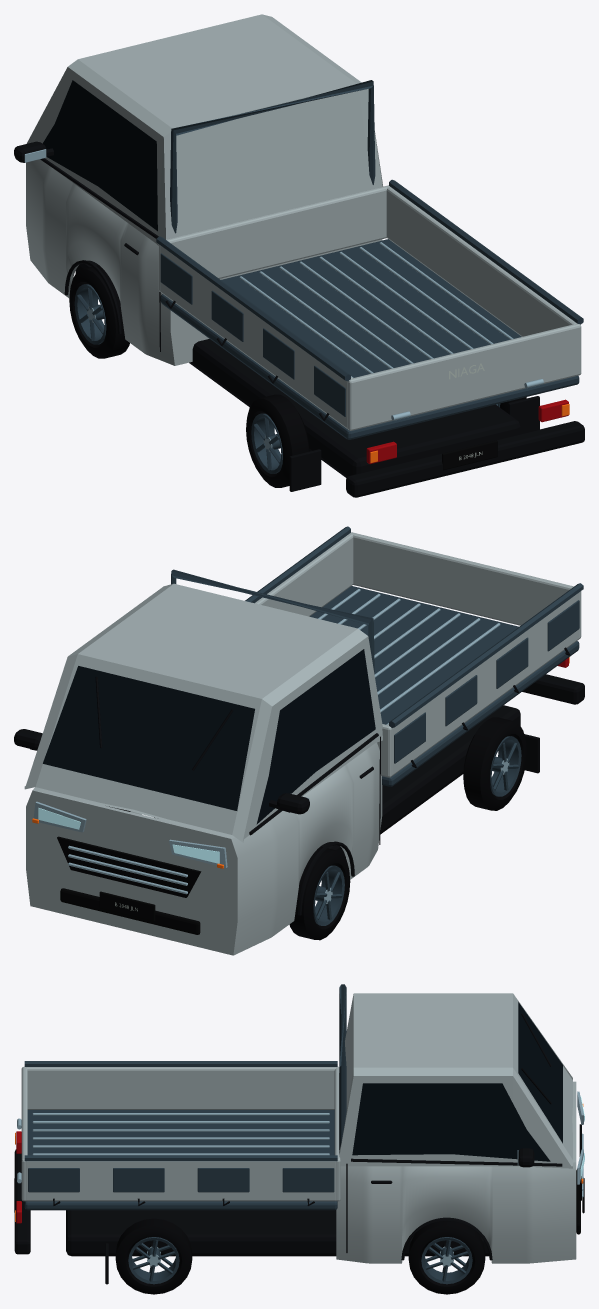
Rendered from utility_pickup_silver.glb.
The picture shows the model from 3 angles, top to bottom: view 1: azimuth 30°, elevation 25°; view 2: azimuth 150°, elevation 25°; view 3: azimuth 270°, elevation 25°; orthographic projection. The views are drawn at different scales.
Visible parts, largest first — view 1: Body_Mesh, Wheel_RL_Mesh, Wheel_FL_Mesh, TailLights_Mesh; view 2: Body_Mesh, Wheel_RL_Mesh, Wheel_FL_Mesh, Headlights_Mesh; view 3: Body_Mesh, Wheel_RR_Mesh, Wheel_FR_Mesh.
Part boxes in pixels (x1=…): Body_Mesh: x1=14, y1=14, x2=584, y2=497; Wheel_RL_Mesh: x1=246, y1=394, x2=309, y2=487; Wheel_FL_Mesh: x1=69, y1=265, x2=129, y2=358; TailLights_Mesh: x1=366, y1=399, x2=568, y2=464; Body_Mesh: x1=14, y1=526, x2=584, y2=955; Wheel_RL_Mesh: x1=463, y1=717, x2=526, y2=810; Wheel_FL_Mesh: x1=289, y1=846, x2=350, y2=940; Headlights_Mesh: x1=33, y1=801, x2=227, y2=867; Body_Mesh: x1=14, y1=984, x2=584, y2=1284; Wheel_RR_Mesh: x1=115, y1=1218, x2=192, y2=1294; Wheel_FR_Mesh: x1=408, y1=1221, x2=485, y2=1294.
Bounding box in the file's own units: 2.1 × 1.85 × 4.3.
Materials: 2 (1 with a texture image).
